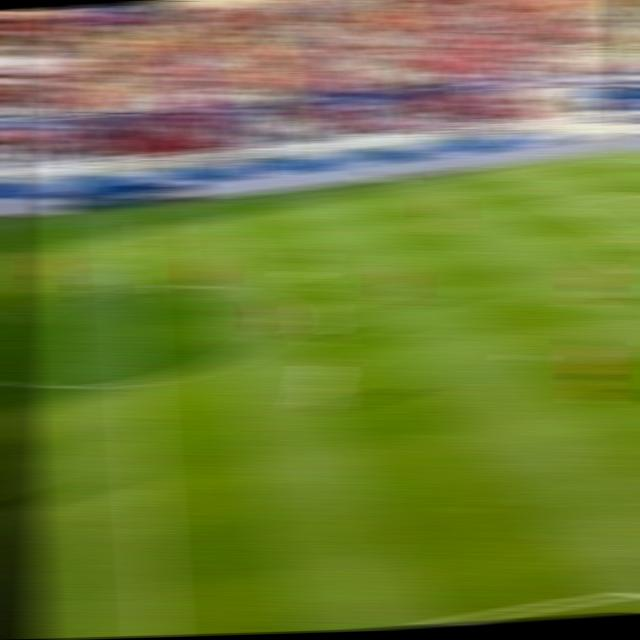bigarea_top_inner: (539, 193, 573, 210)
halfcircle_bottom: (119, 366, 161, 396)
halfcircle_top: (111, 274, 152, 297)
midline_top_intersection: (109, 205, 144, 225)
top_arc_area_intersection: (606, 223, 640, 242)
